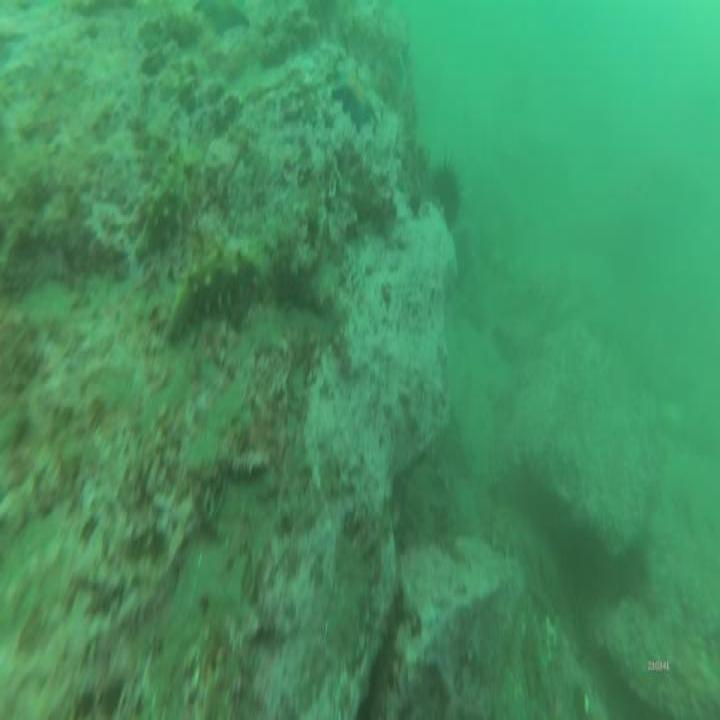echinus: (433, 167, 461, 228)
holothurian: (165, 240, 270, 331), (132, 148, 188, 253)
starfish: (331, 63, 375, 124), (197, 0, 248, 39)
